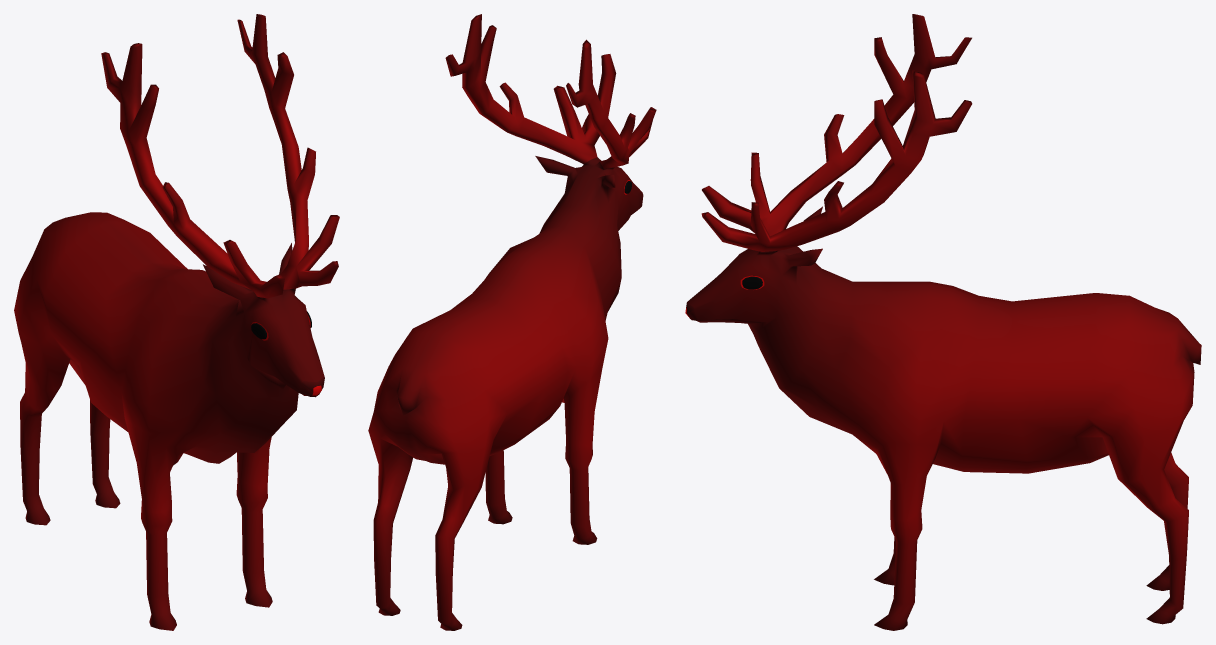
Rendered from reindeer.fbx.
The picture shows the model from 3 angles, left to right: view 1: azimuth 30°, elevation 25°; view 2: azimuth 150°, elevation 25°; view 3: azimuth 270°, elevation 25°; orthographic projection. The views are drawn at different scales.
Visible parts, largest first — view 1: alt608; view 2: alt608; view 3: alt608.
Part boxes in pixels (box(x1,y1,x2,y2)): alt608: box(14, 14, 339, 630); alt608: box(368, 14, 656, 630); alt608: box(686, 14, 1201, 630).
Bounding box in the file's own units: 64.12 × 230 × 192.
